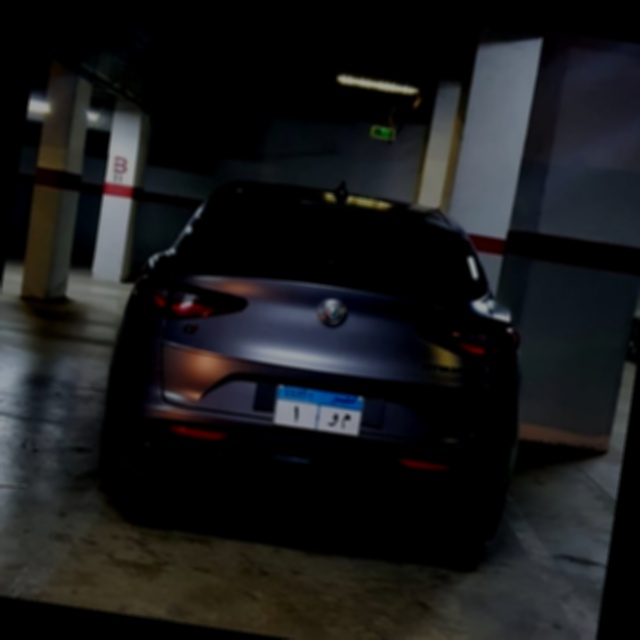License Plate: (270, 381, 367, 441)
